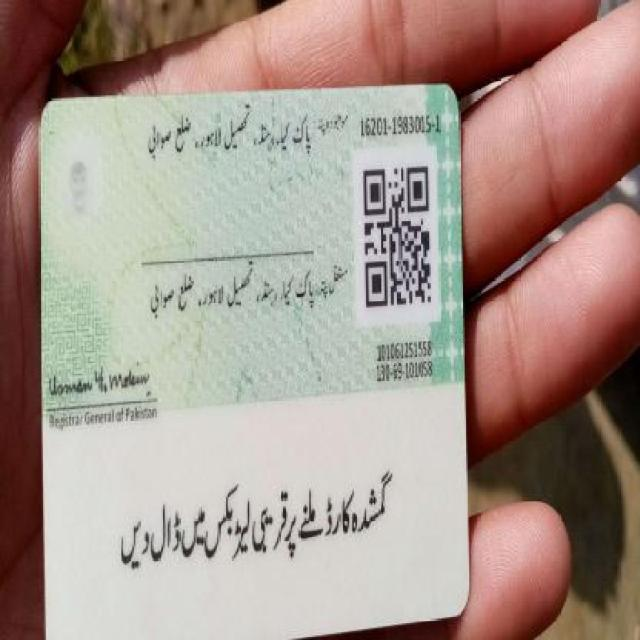Back: (23, 82, 479, 628)
